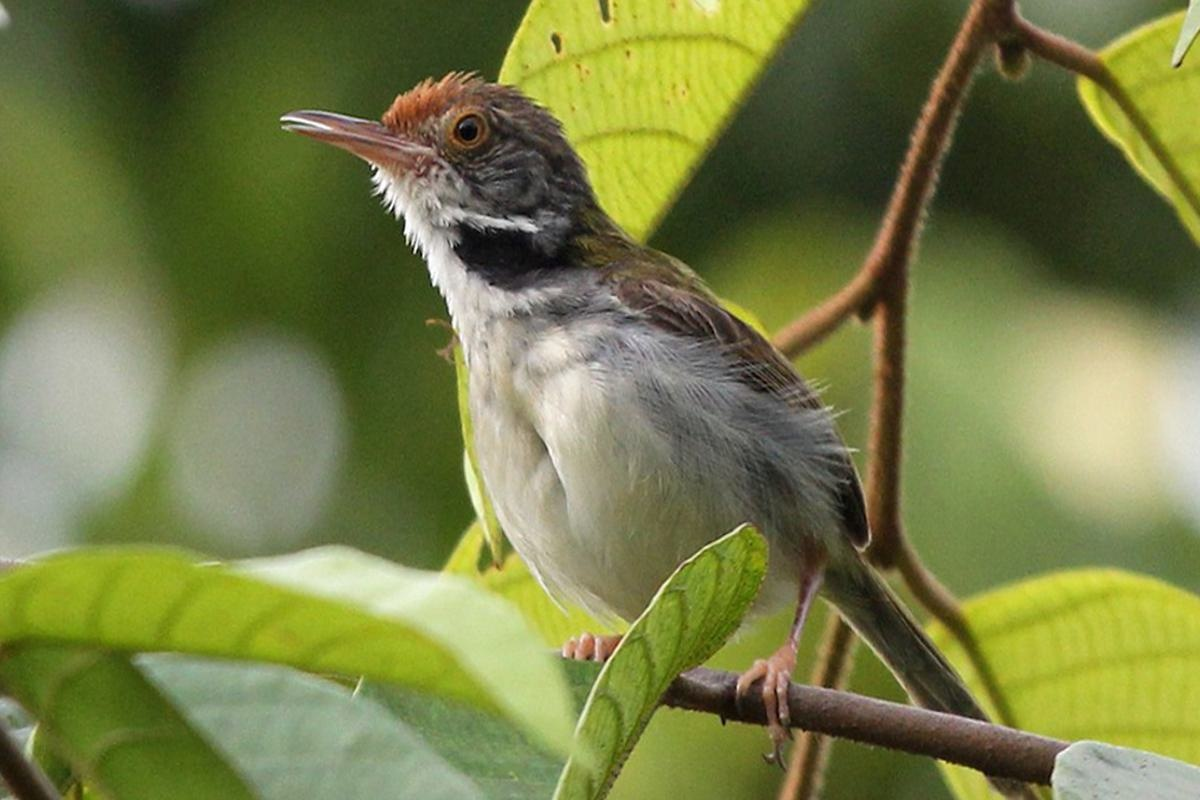tailorbird: (255, 70, 1084, 780)
